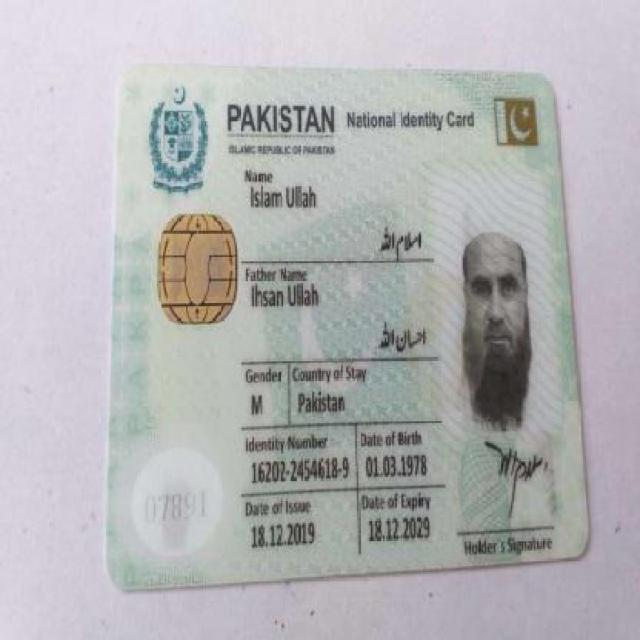Front: (105, 57, 597, 600)
